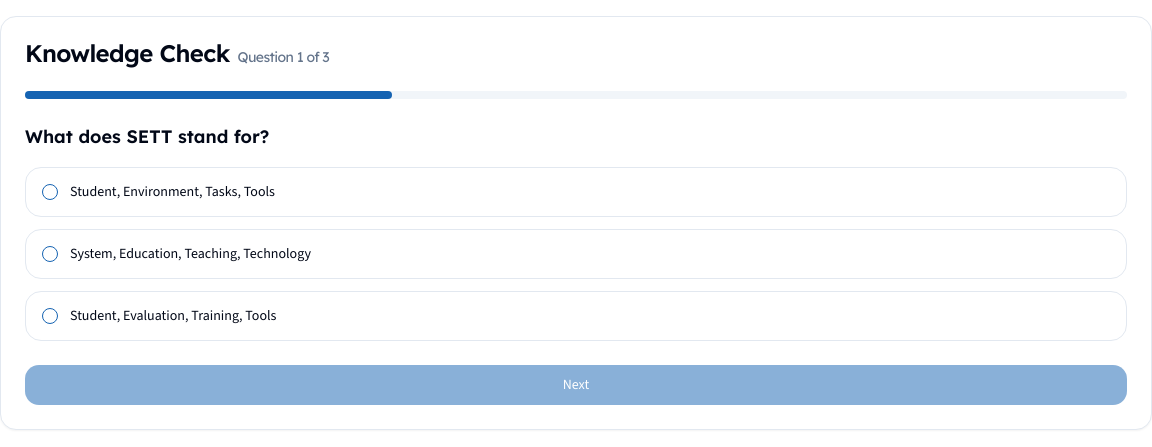
Quiz Component › enables Next button after selecting an answer
Click the text "Student, Environment, Tasks, Tools" at point(172, 192), box [70,182,275,201]
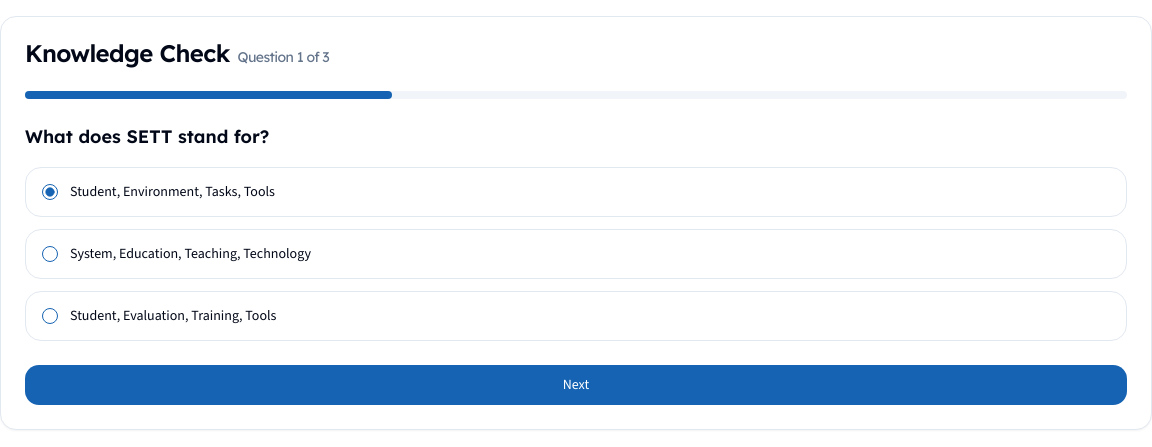
Now the button is enabled, box [25,365,1127,405]
